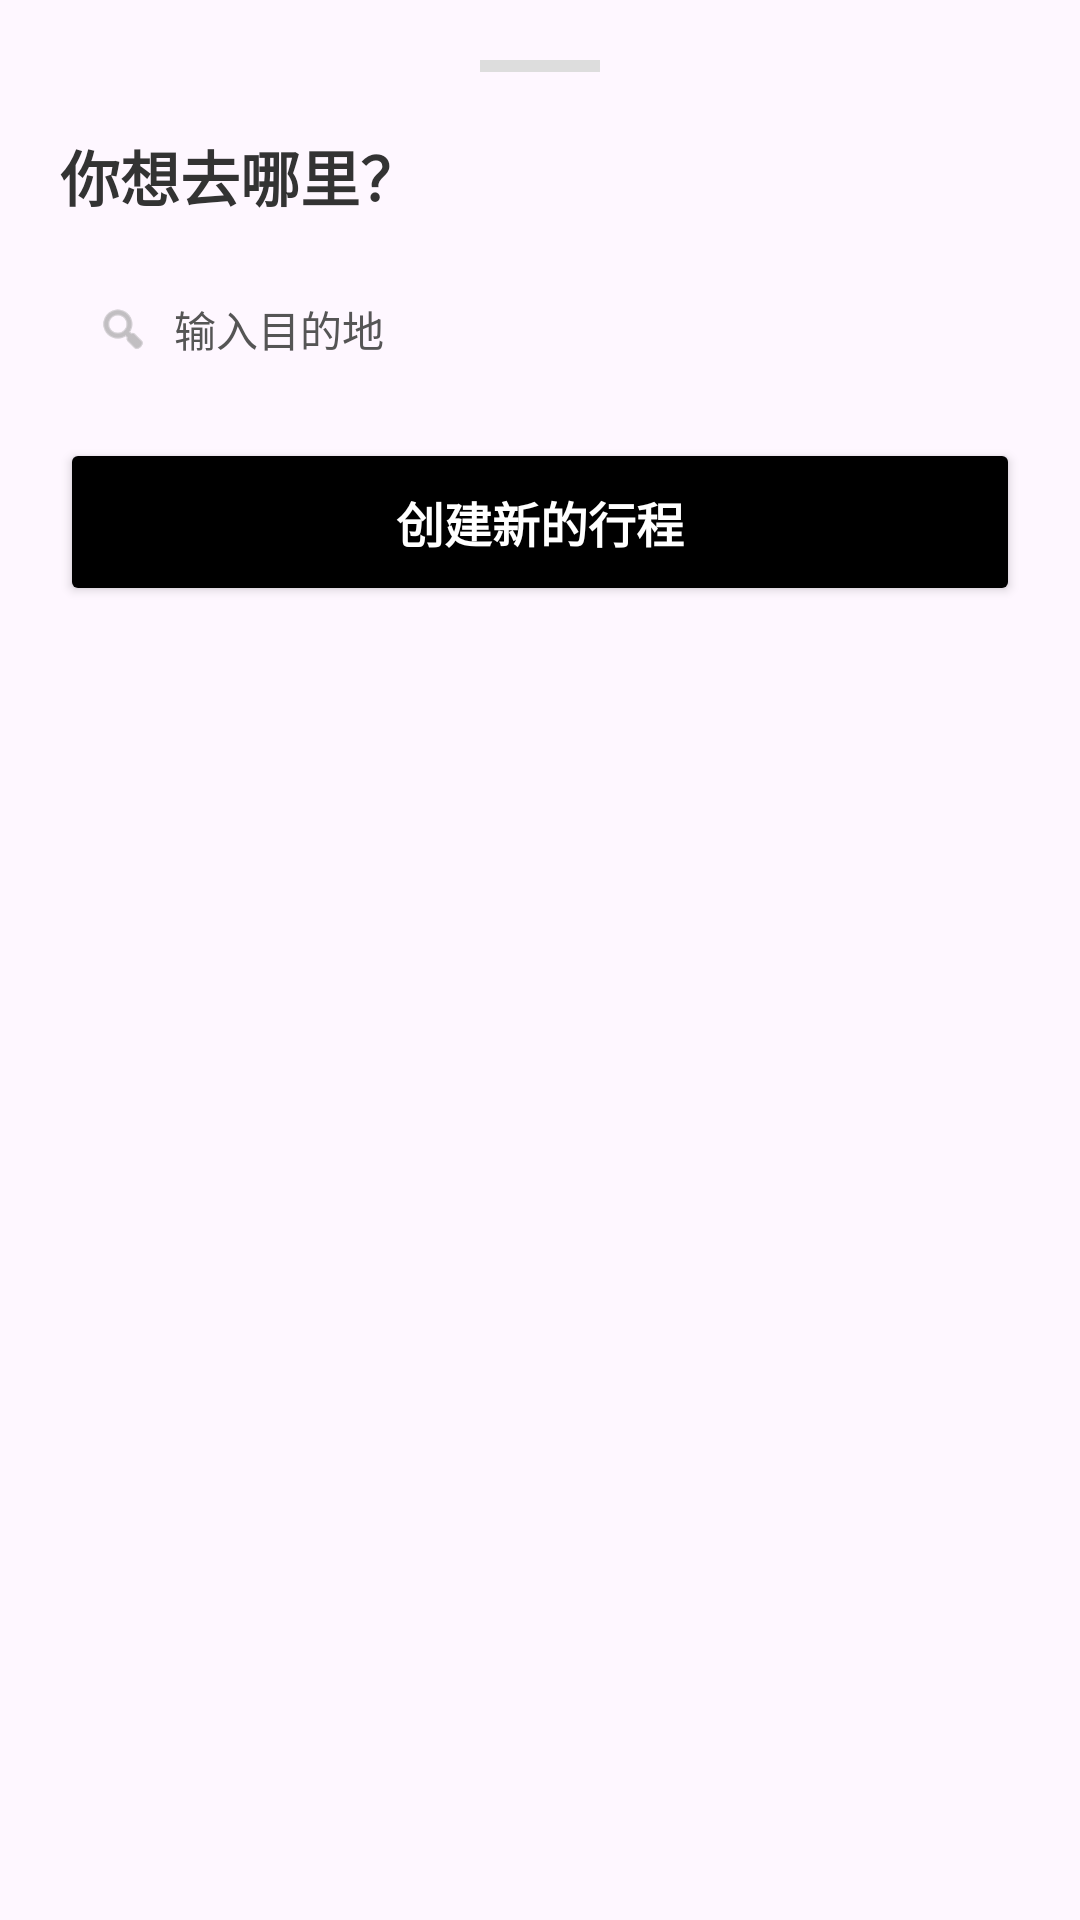

Where icons sit on this 1080×1920 app screen, as (x1=x1, y1=y1, x2=x2, y2=y2):
search: (x1=103, y1=309, x2=143, y2=349)
